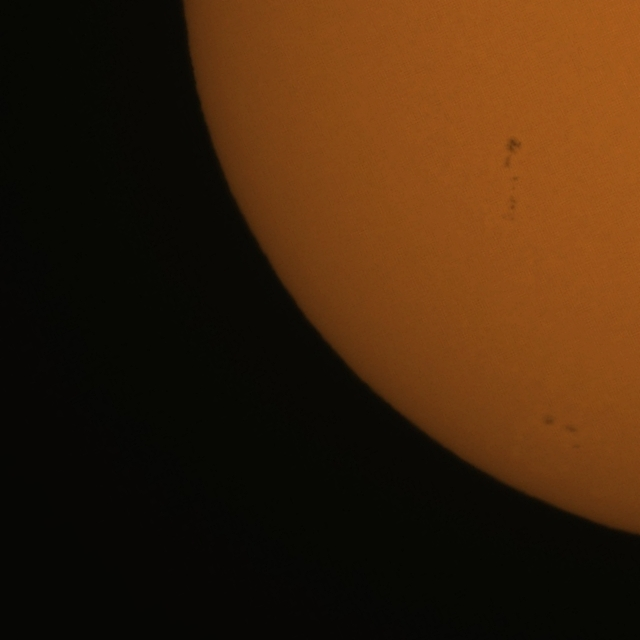sunspot: (504, 136, 524, 159)
